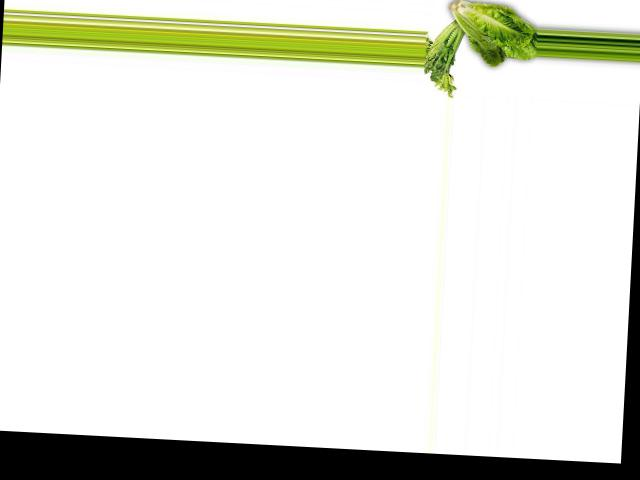lettuce: (441, 1, 539, 76)
